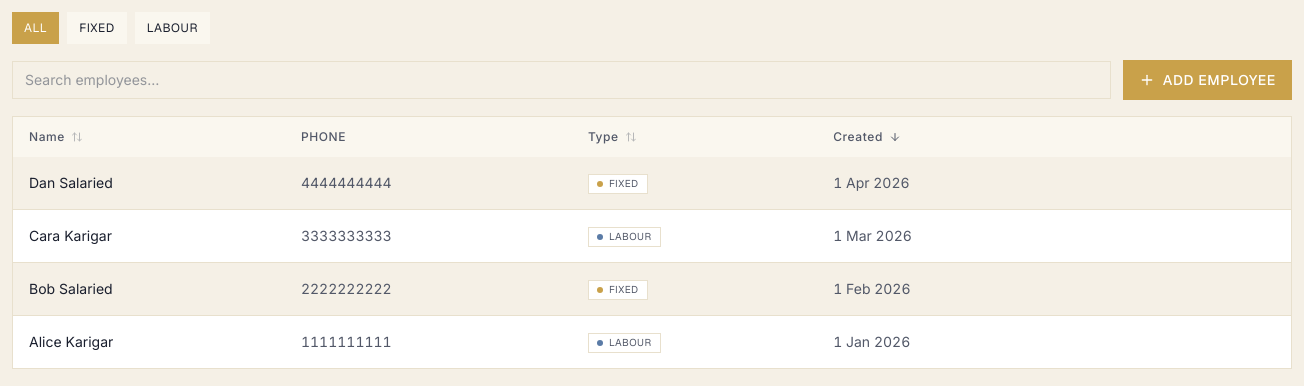
it: EmployeesTable › filter pills › clicking 'Fixed' pill shows only FIXED employees
The image size is (1304, 386).
Click the radio button labelled "Fixed". click: [97, 28]
box: [67, 12, 127, 44]
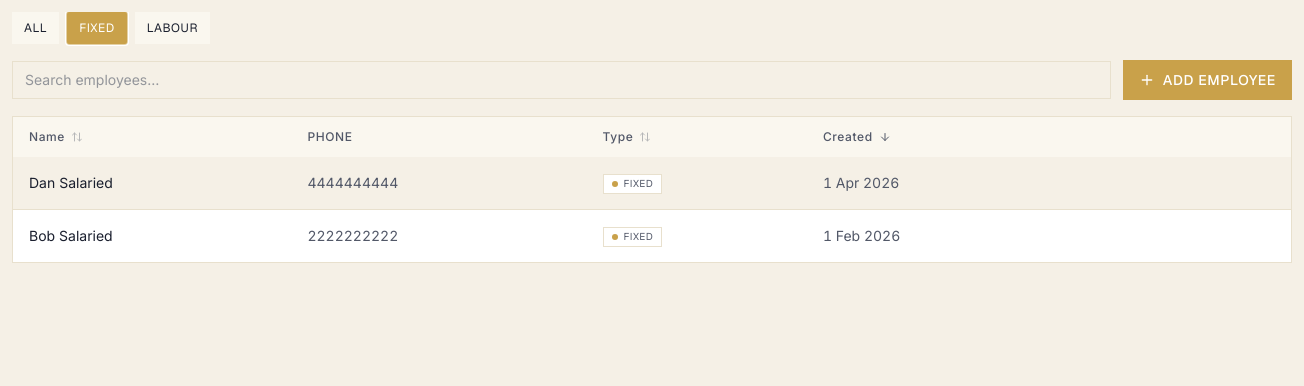
Expected: the text "Bob Salaried" is shown, [29, 227, 113, 244]
Result: the text "Alice Karigar" is gone
Result: the text "Cara Karigar" is gone
